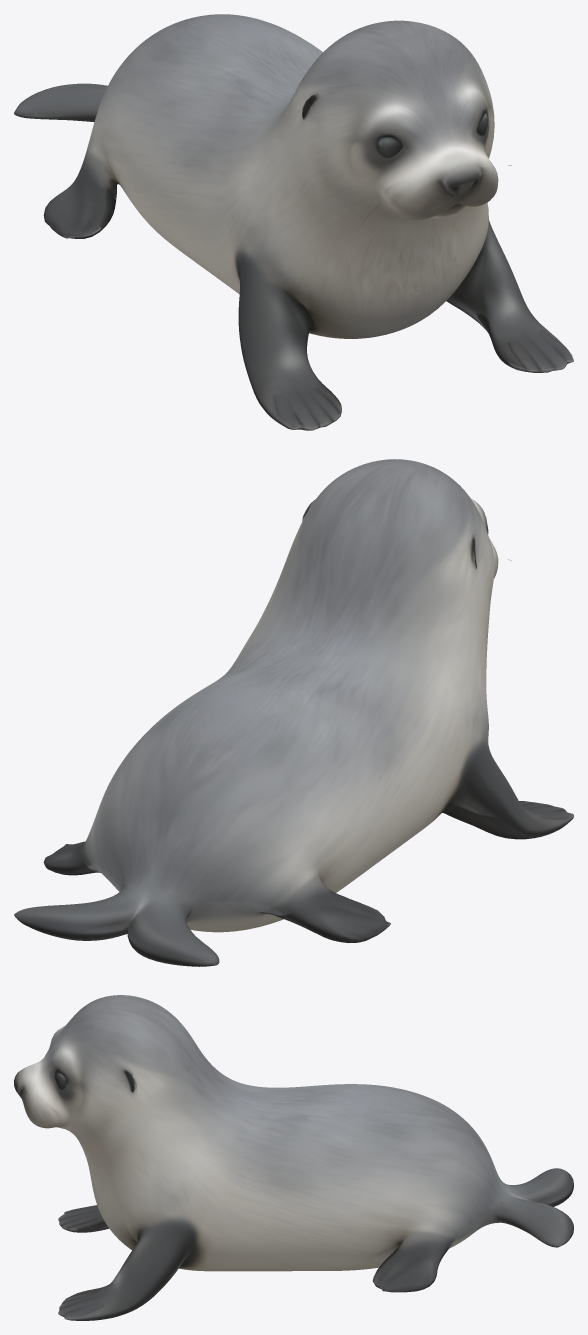
Rendered from antarcticFurSeal.glb.
3 views of the same model, one above another, from view 1: azimuth 30°, elevation 25°; view 2: azimuth 150°, elevation 25°; view 3: azimuth 270°, elevation 25° (orthographic). The views are drawn at different scales.
Visible parts, largest first — view 1: model; view 2: model; view 3: model.
Part boxes in pixels (bbox=[...]): model: bbox=[14, 14, 573, 430]; model: bbox=[14, 459, 573, 966]; model: bbox=[14, 995, 573, 1320].
Bounding box in the file's own units: 0.991 × 0.9969 × 1.9.
1 material, 1 textured.
